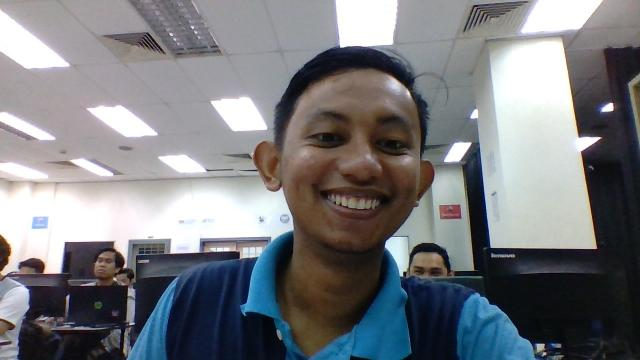senang: (244, 43, 431, 265)
